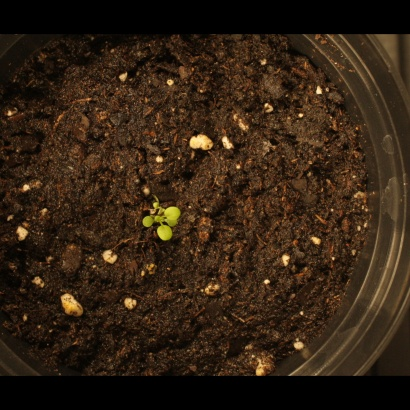leaf: (153, 226, 176, 249), (163, 201, 186, 224), (133, 209, 156, 232)
